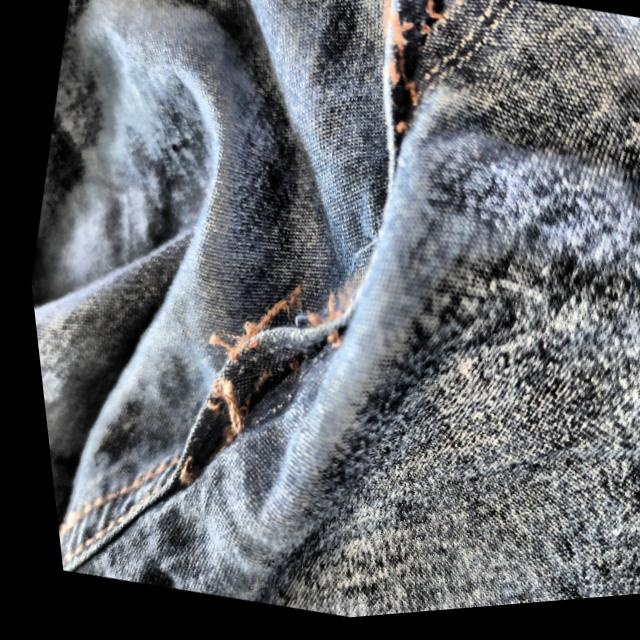seam: (128, 265, 360, 548), (325, 0, 536, 187)
